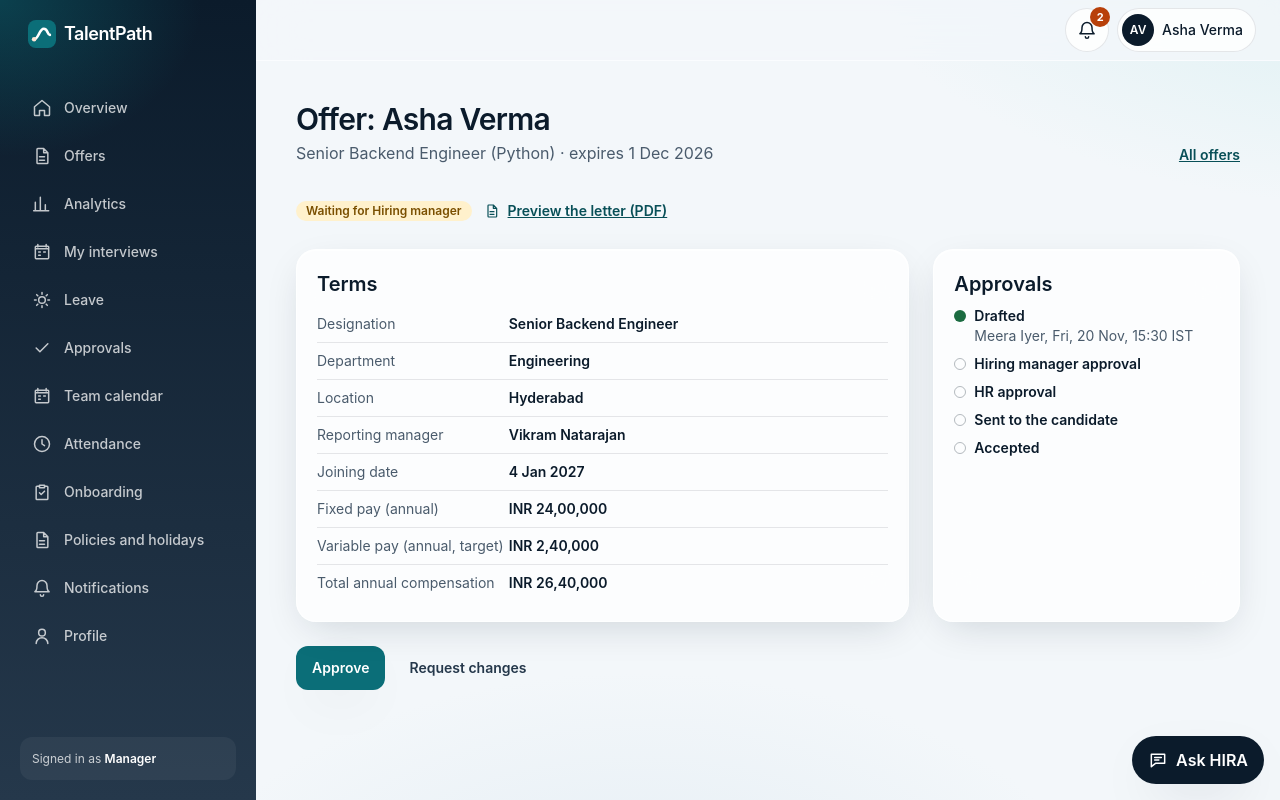
Test: offers › hiring manager approves at their step
Expected: the heading "Offer: Asha Verma" is shown, [296,101,550,137]
Expected: the text "Waiting for Hiring manager" is shown, [296,201,472,221]
Step 1. Click the button "Approve" → click(341, 668), box [296,646,385,690]
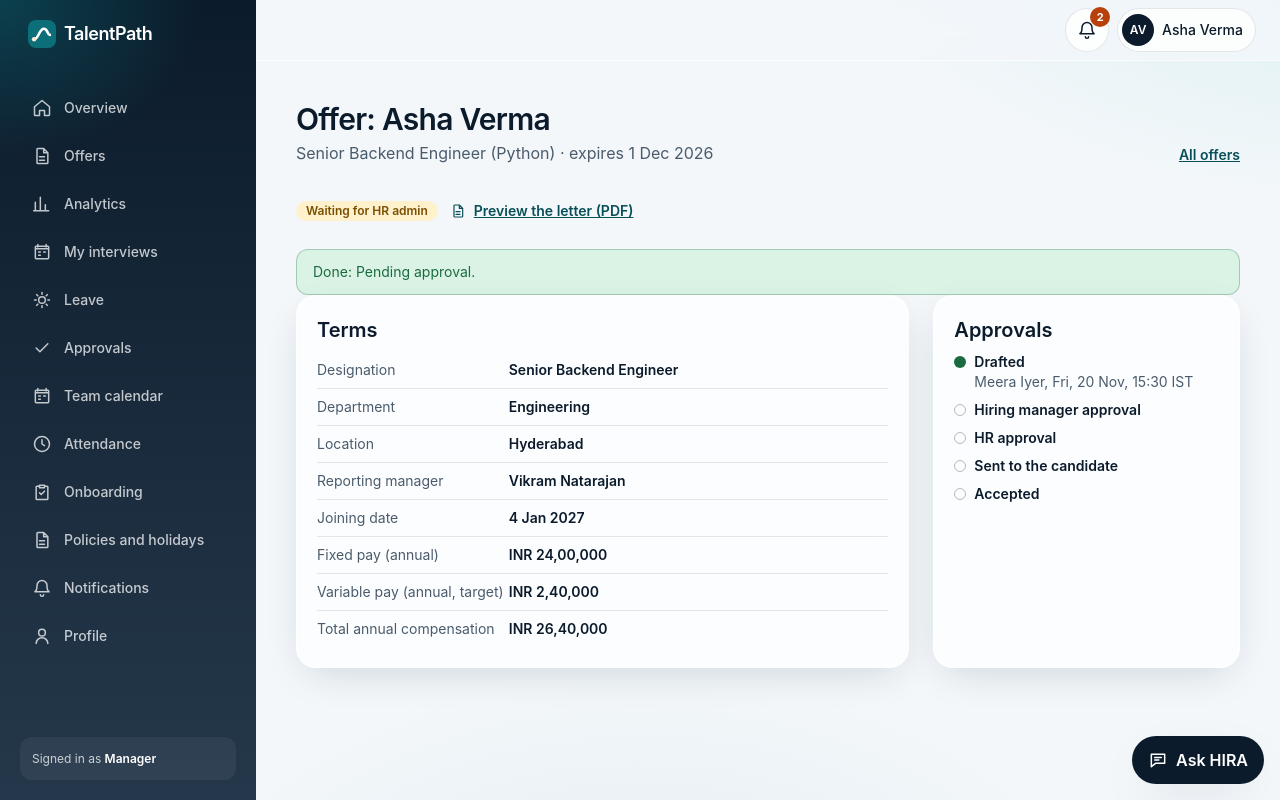
Expected: the text "Waiting for HR admin" is shown, [296,201,438,221]
Expected: the button "Approve" is gone
